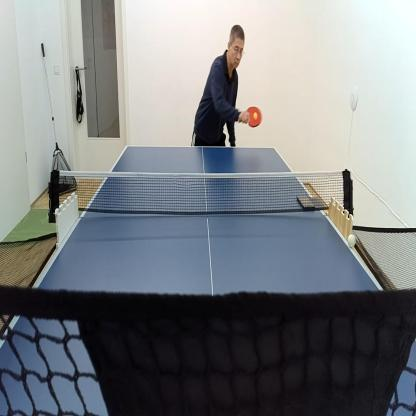Ball: (347, 231, 357, 250), (253, 110, 258, 121)
